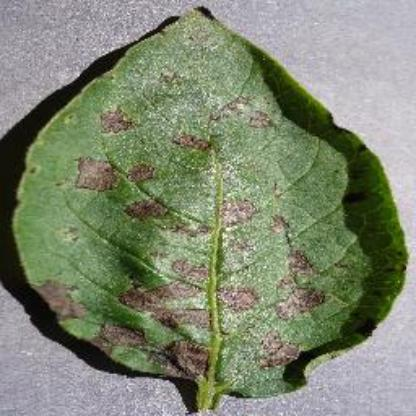Early-Blight: (10, 7, 414, 409)
